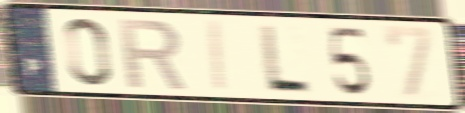0: (63, 16, 113, 88)
5: (325, 25, 374, 97)
7: (380, 24, 441, 103)
I: (207, 18, 231, 94)
L: (257, 22, 313, 96)
R: (117, 15, 190, 92)
